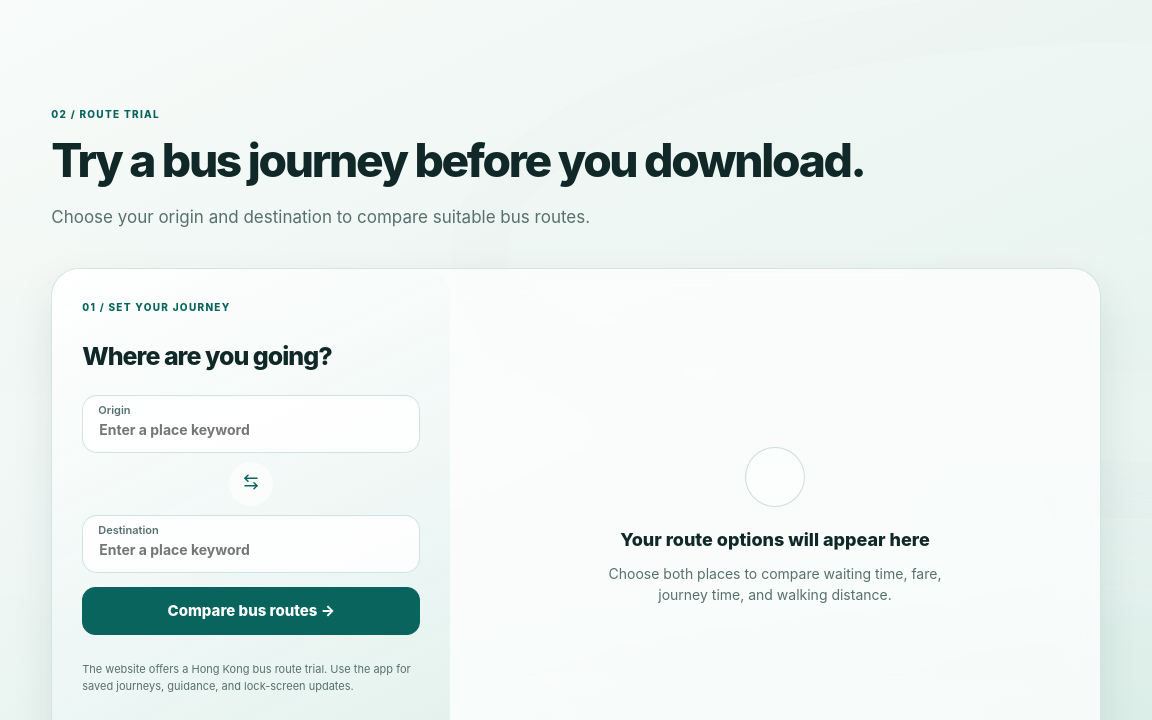
Test case: OnlineQueryDemoSection › renders a compact missing-stop fallback instead of empty boarding and alighting placeholders
Type "origin" into the dropdown labelled "Origin". click: (251, 424)
box: x1=82 y1=395 x2=420 y2=453
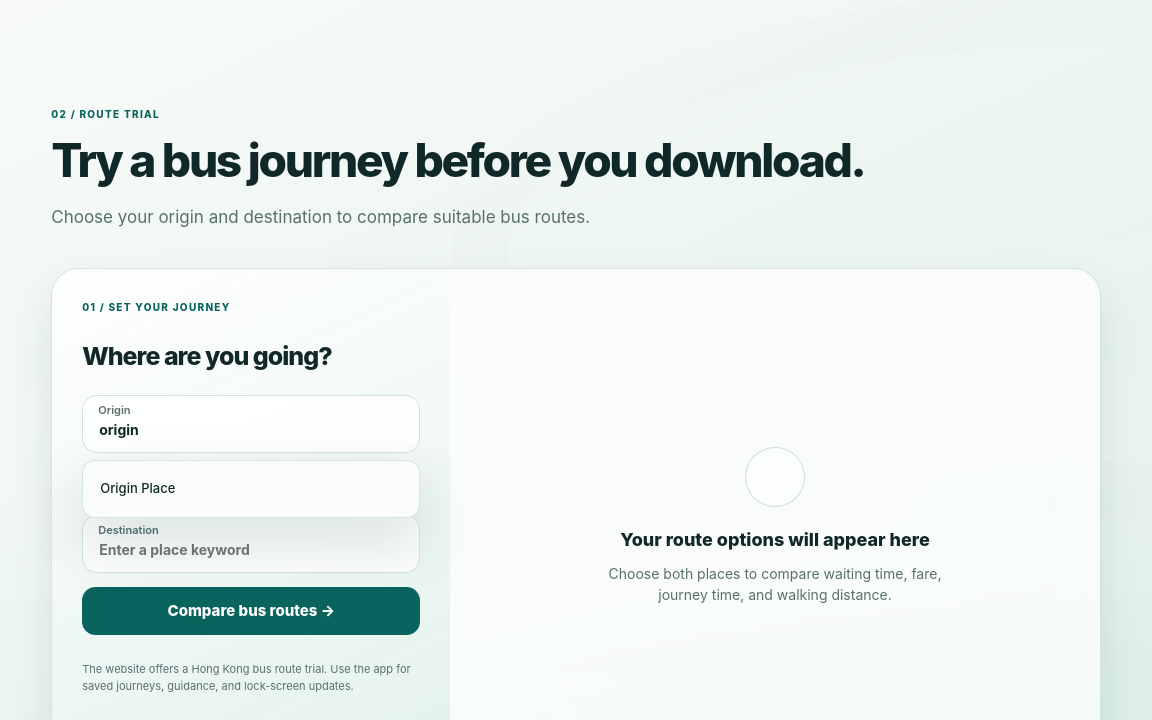
Click the option "Origin Place". click: (138, 488)
box: x1=89 y1=467 x2=413 y2=511
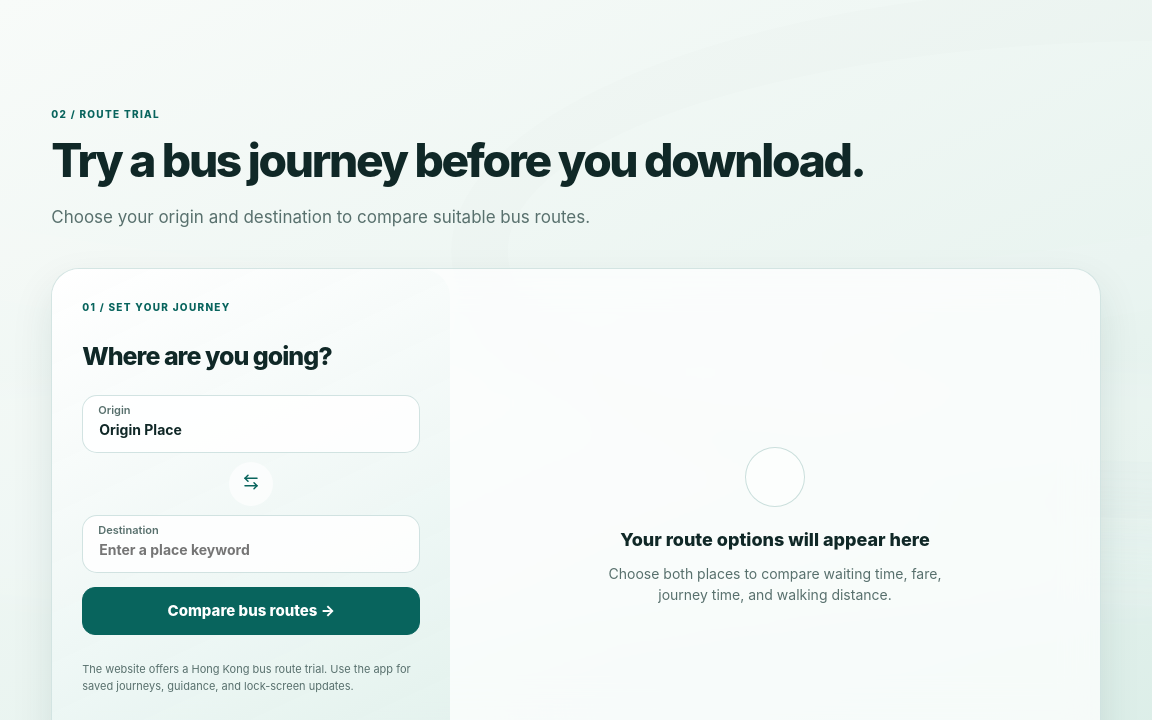
Type "destination" into the dropdown labelled "Destination". click: (251, 544)
box: x1=82 y1=515 x2=420 y2=573
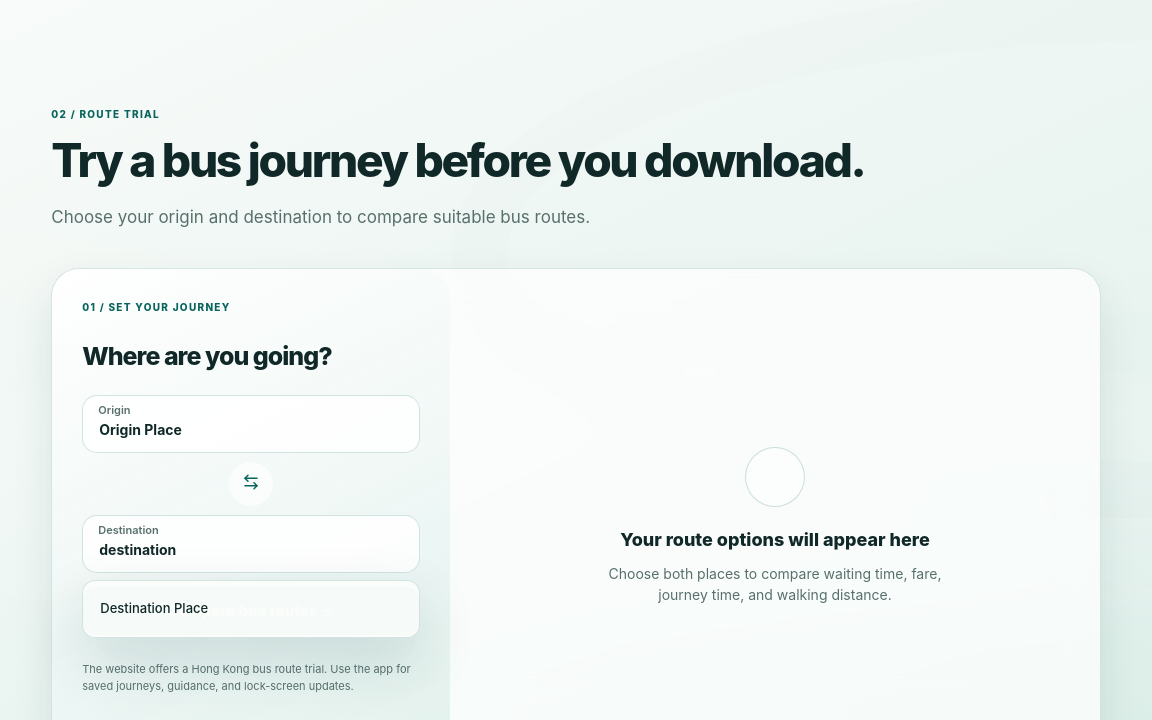
Click the option "Destination Place". click: (154, 608)
box: x1=89 y1=587 x2=413 y2=631
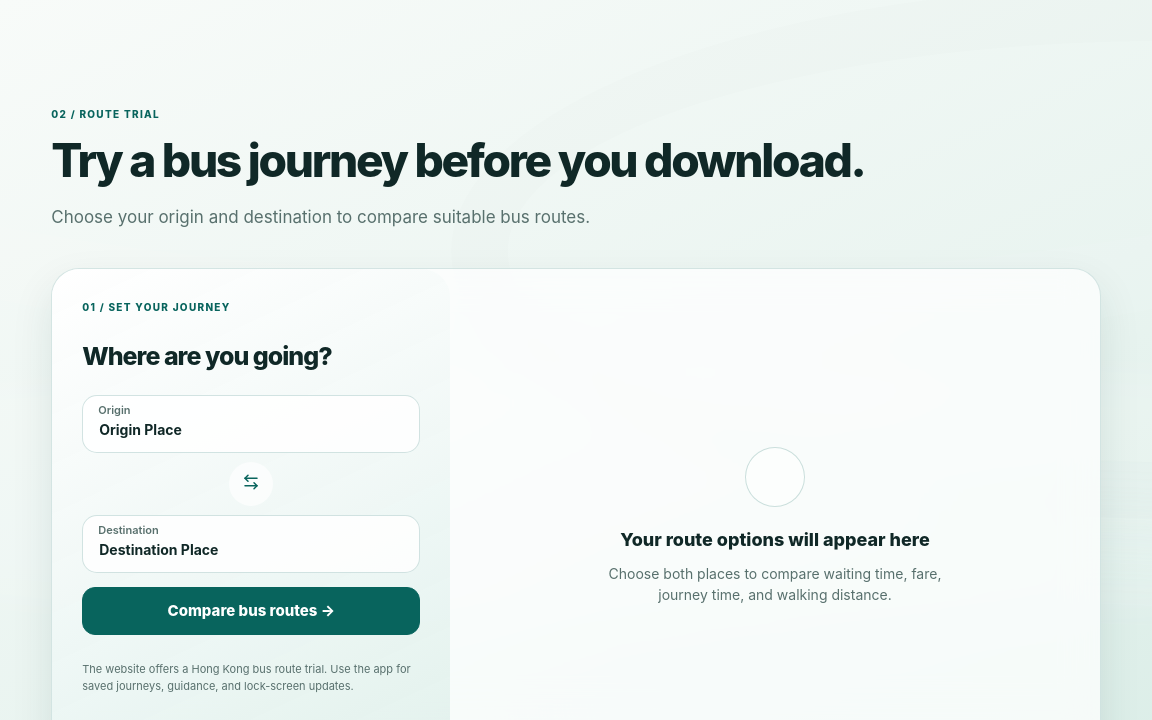
Click the button "Compare bus routes →". click: (251, 611)
box: x1=82 y1=587 x2=420 y2=635
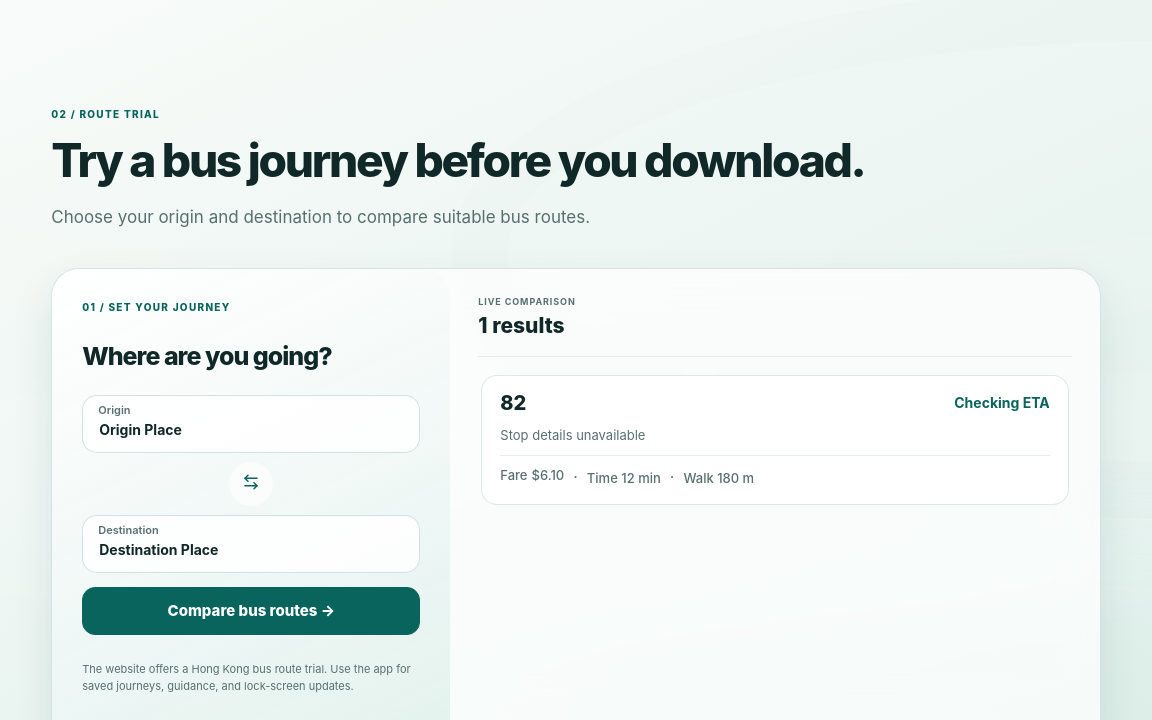
expect the text "82" is shown: met, box x1=500 y1=392 x2=526 y2=415
expect the text with test id "route-stop-fallback" reads "Stop details unavailable": met, box x1=500 y1=427 x2=646 y2=443
